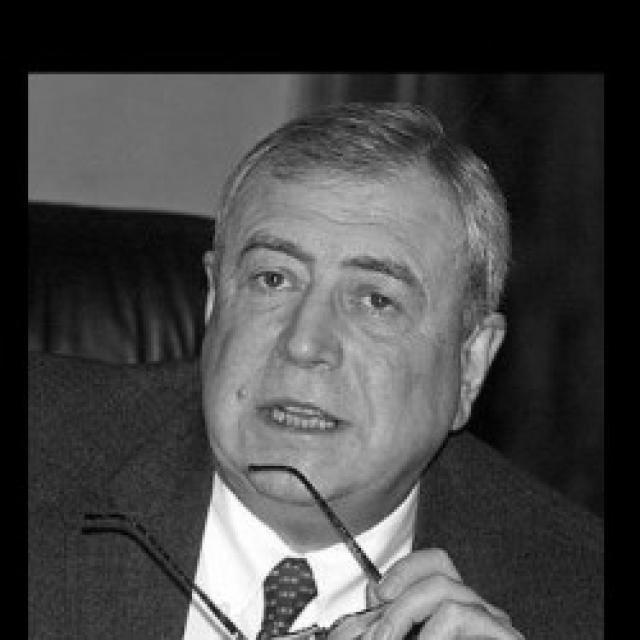real: (206, 152, 468, 518), (231, 247, 419, 349)
